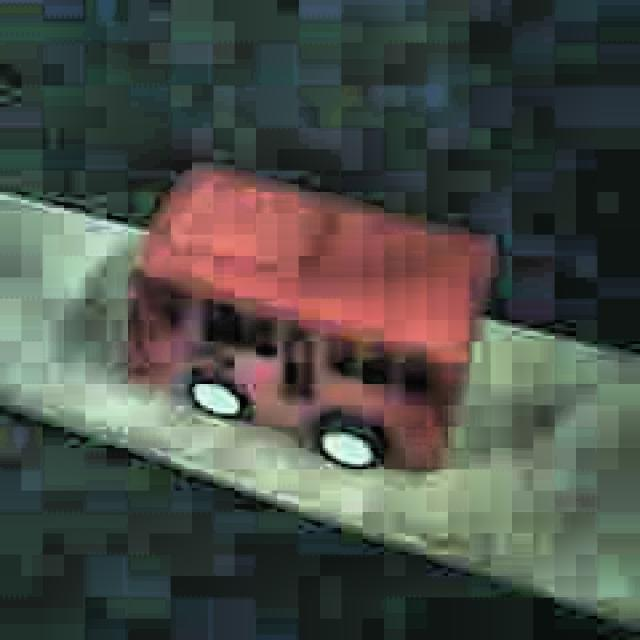bus: (125, 161, 498, 475)
